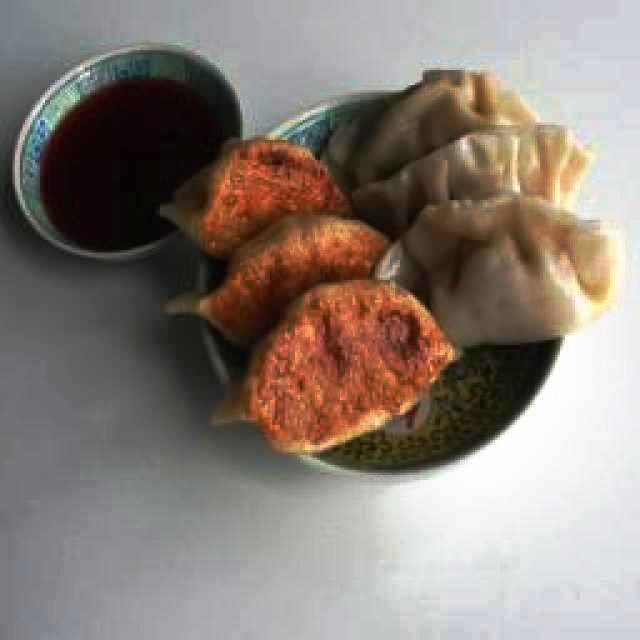fried_dumplings: (208, 278, 461, 457), (380, 196, 616, 344), (165, 215, 393, 348), (358, 123, 590, 235), (163, 138, 351, 257), (350, 67, 539, 181)
